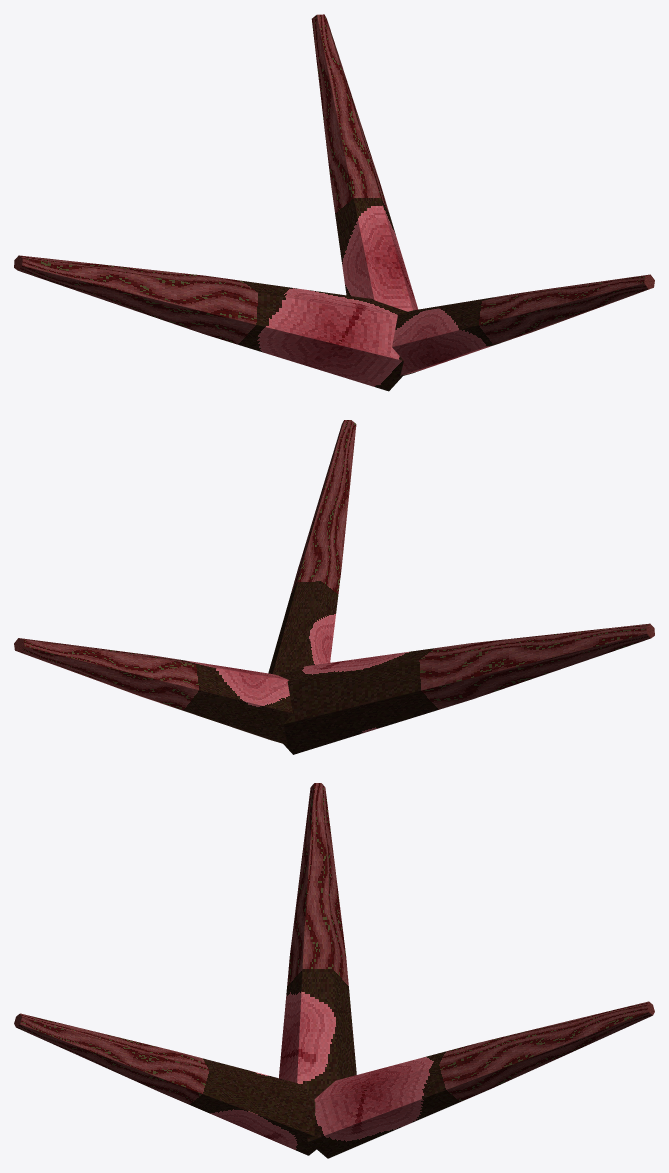
Rendered from raiz_de_sangue.glb.
3 renders of one model, top to bottom at view 1: azimuth 30°, elevation 25°; view 2: azimuth 150°, elevation 25°; view 3: azimuth 270°, elevation 25°, orthographic. The views are drawn at different scales.
Visible parts, largest first — view 1: raiz_de_sangue; view 2: raiz_de_sangue; view 3: raiz_de_sangue.
Boxes of the visible parts, <box> form: raiz_de_sangue: <box>14,14,654,391</box>; raiz_de_sangue: <box>14,420,654,754</box>; raiz_de_sangue: <box>14,783,654,1158</box>.
Bounding box in the file's own units: 0.857 × 0.3589 × 1.04.
1 material, 1 textured.
